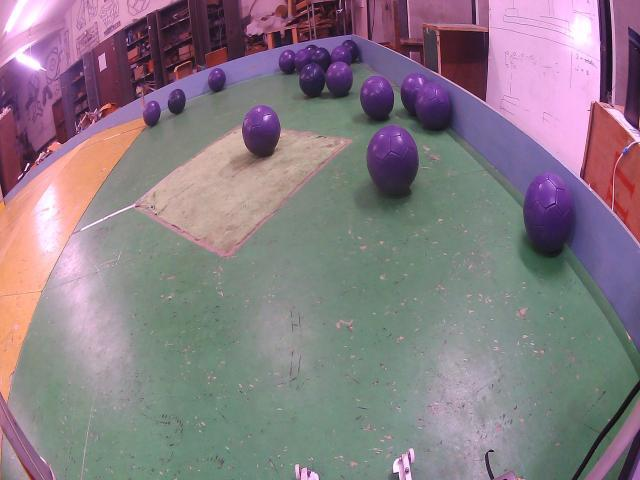jambhalya: (524, 172, 574, 252), (366, 125, 419, 196), (241, 105, 281, 157), (415, 82, 451, 130), (360, 75, 394, 120), (400, 73, 428, 115), (325, 62, 352, 97), (142, 100, 161, 127), (208, 68, 226, 92), (330, 45, 351, 65), (279, 50, 295, 75), (294, 48, 310, 72)
kaalyya: (299, 63, 325, 97), (310, 47, 330, 72), (168, 88, 186, 114), (342, 40, 359, 63), (306, 45, 316, 50)
